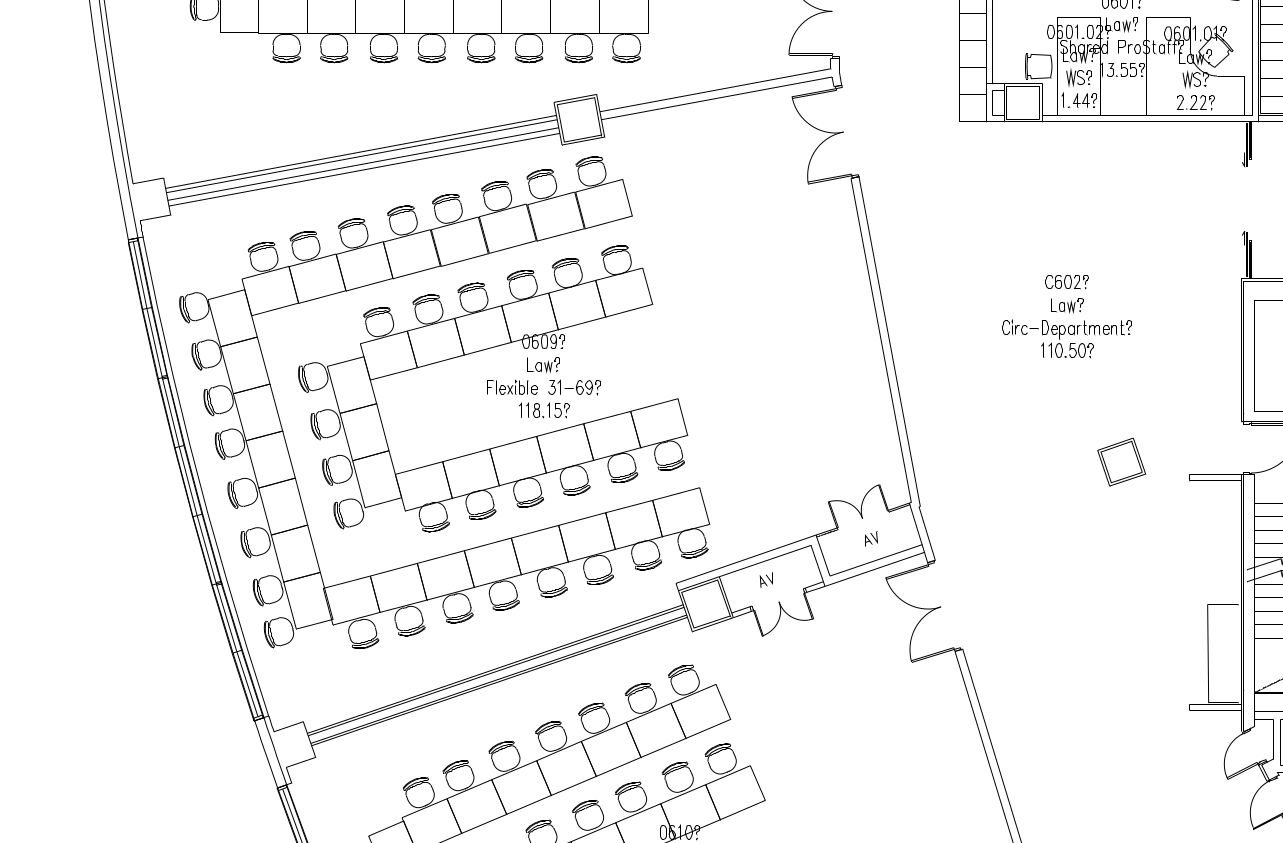door: (795, 132, 865, 194), (787, 86, 848, 144), (881, 563, 941, 620), (899, 609, 959, 666), (782, 10, 839, 60), (1215, 730, 1264, 785), (1232, 781, 1281, 836), (857, 479, 891, 527), (828, 490, 862, 538), (782, 590, 816, 638), (754, 591, 788, 639)
